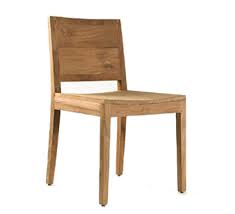tiyarina: (36, 11, 189, 207)
